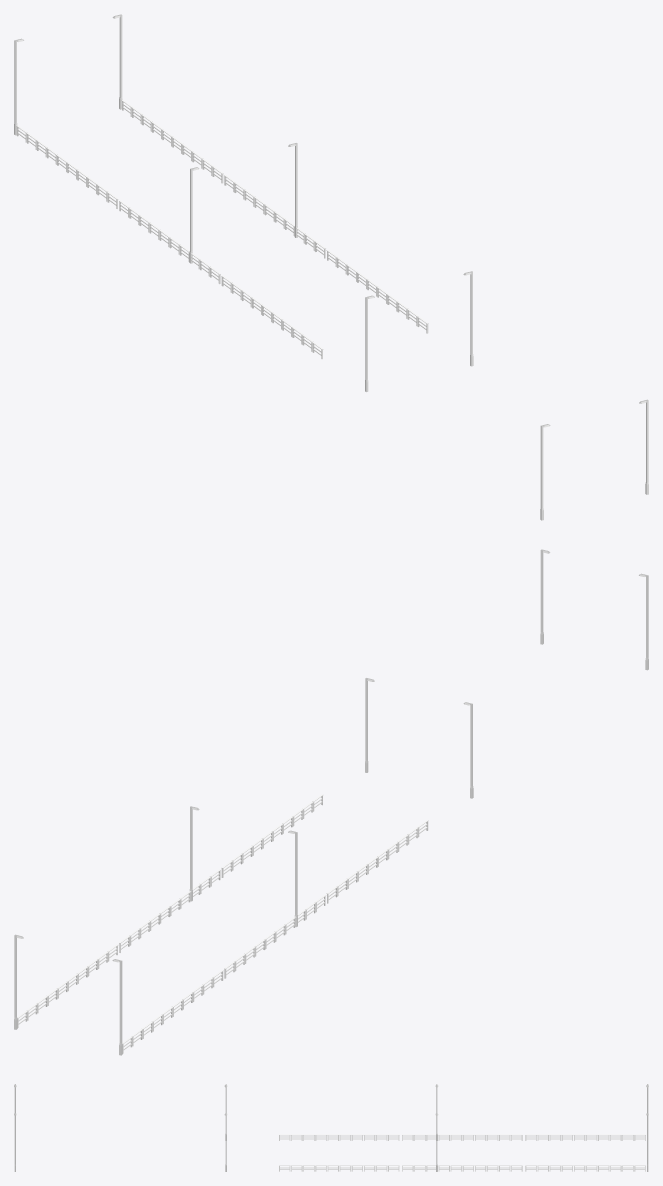
The model's file is background-animated.glb.
3 views of the same model, one above another, from view 1: azimuth 30°, elevation 25°; view 2: azimuth 150°, elevation 25°; view 3: azimuth 270°, elevation 25° (orthographic). The views are drawn at different scales.
Parts seen in each view (by area): view 1: Rail, Lamp Post; view 2: Rail, Lamp Post; view 3: Rail, Lamp Post.
Boxes of the visible parts, x1,y1,x2,y2 form: Rail: (16, 99, 428, 359); Lamp Post: (14, 14, 648, 520); Rail: (17, 794, 428, 1053); Lamp Post: (14, 549, 648, 1055); Rail: (279, 1134, 645, 1171); Lamp Post: (14, 1084, 648, 1171).
Bounding box in the file's own units: 13.92 × 11.66 × 119.
Materials: 1 (1 with a texture image).
